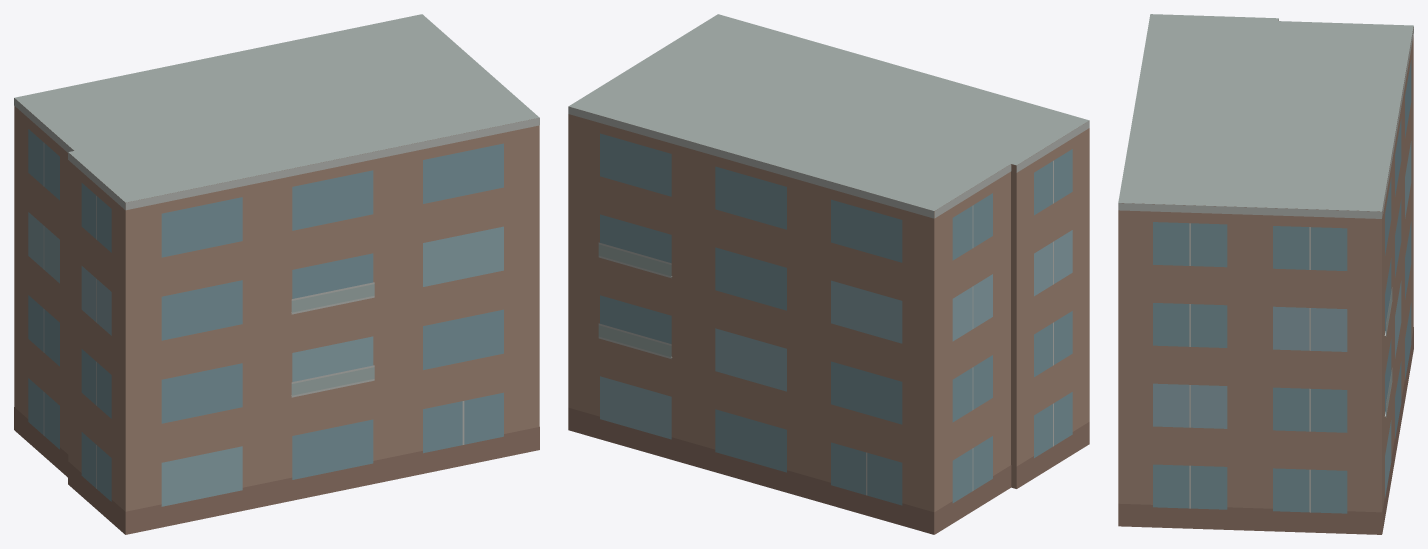
The model's file is survey-upis-32535638.glb.
3 views of the same model, side by side, from view 1: azimuth 30°, elevation 25°; view 2: azimuth 150°, elevation 25°; view 3: azimuth 270°, elevation 25° (orthographic). The views are drawn at different scales.
Parts seen in each view (by area): view 1: survey-upis-32535638.tmp; view 2: survey-upis-32535638.tmp; view 3: survey-upis-32535638.tmp.
Boxes of the visible parts, box(x1,y1,x2,y2) form: survey-upis-32535638.tmp: box(14, 14, 539, 534); survey-upis-32535638.tmp: box(568, 14, 1089, 534); survey-upis-32535638.tmp: box(1118, 14, 1413, 534).
Bounding box in the file's own units: 13.76 × 10.5 × 8.71.
